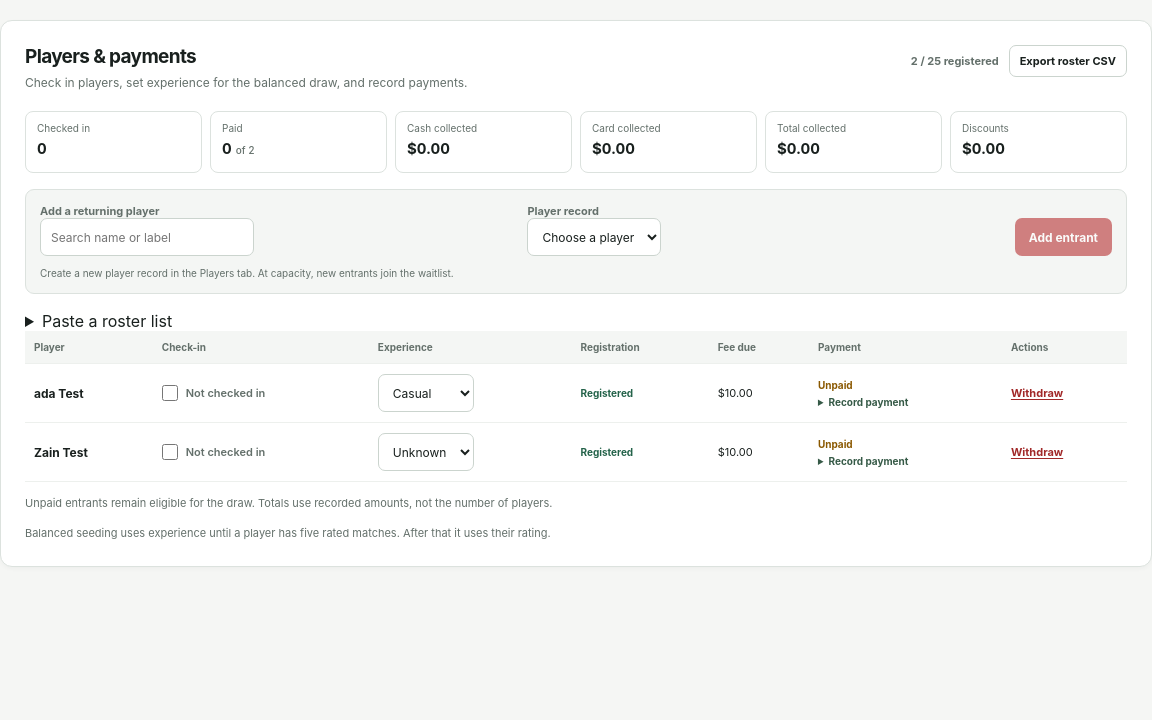
Test: shows the roster in name order and saves an experience change for the selected player
Step 1. Select "Club" in the dropdown named "Experience for ada Test" → (426,393), box [378,374,474,412]
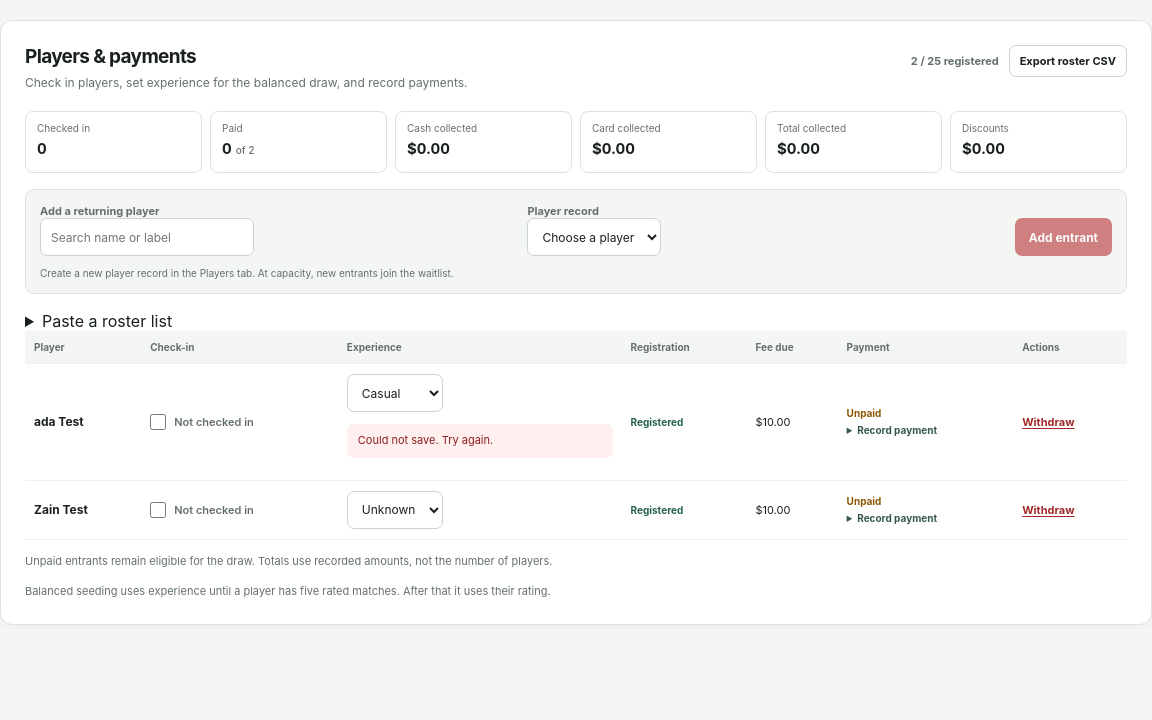
expect the message shows "Could not save": met, box [358,433,493,447]
